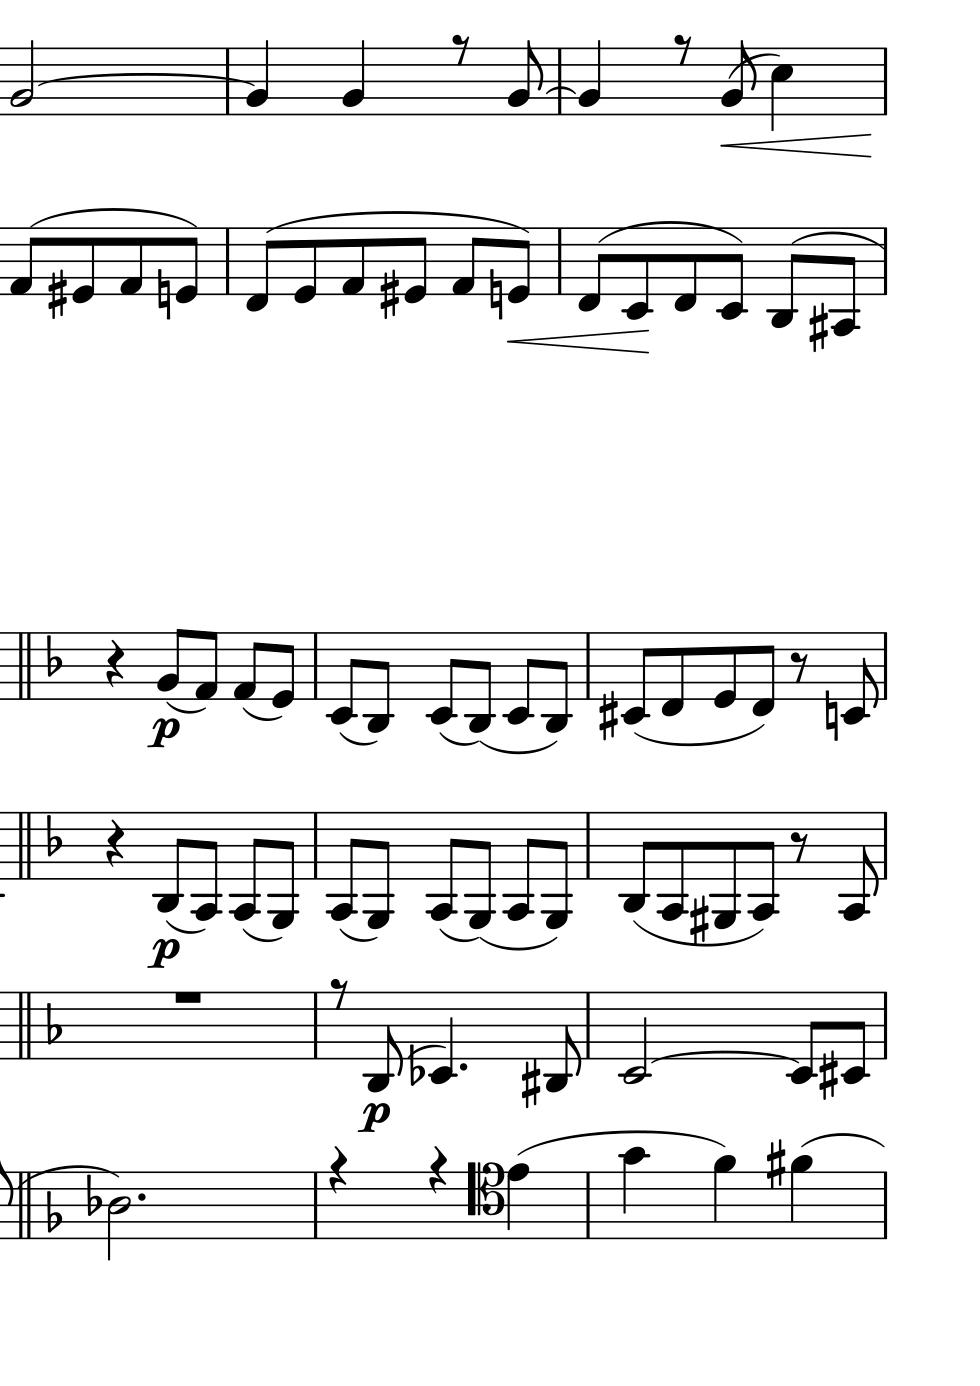2_-2: (620, 989, 649, 1086)
2_2: (8, 38, 36, 116)
2_4: (106, 1171, 132, 1262)
4_-2: (427, 989, 455, 1086)
4_2: (577, 38, 603, 118), (245, 38, 272, 117), (342, 38, 367, 117)
4_5: (768, 45, 795, 131)
4_8: (506, 1161, 529, 1240)
4_9: (788, 1152, 812, 1241), (711, 1153, 735, 1240)
8_-1: (242, 226, 278, 314), (575, 227, 607, 314), (659, 631, 686, 719), (751, 631, 777, 720), (671, 226, 698, 313)
8_-2: (839, 630, 879, 726), (785, 992, 819, 1091), (326, 630, 361, 726), (426, 631, 461, 725), (620, 631, 655, 725), (503, 631, 536, 725), (716, 226, 747, 322), (839, 992, 869, 1085), (622, 227, 650, 321)
8_-3: (364, 990, 404, 1093), (544, 992, 582, 1094), (618, 811, 653, 916), (153, 811, 186, 915), (767, 226, 800, 329), (364, 631, 391, 734), (543, 630, 570, 736), (466, 630, 492, 734)
8_-4: (837, 809, 878, 923), (425, 809, 460, 922), (326, 809, 360, 922), (503, 809, 537, 922), (231, 810, 263, 923), (655, 810, 687, 922), (190, 809, 221, 922), (749, 809, 778, 923), (830, 225, 857, 338)
8_-5: (268, 810, 300, 930), (463, 811, 495, 931), (363, 811, 395, 930), (543, 811, 574, 930), (710, 811, 740, 930)
8_0: (174, 226, 202, 306), (270, 630, 297, 712), (70, 226, 97, 306), (292, 227, 318, 306), (711, 631, 737, 710), (403, 227, 428, 308), (507, 227, 532, 306)
8_1: (449, 227, 482, 298), (231, 630, 263, 703), (8, 226, 40, 297), (116, 227, 143, 297), (193, 630, 218, 704), (339, 226, 365, 297)
8_10: (620, 1145, 647, 1242)
8_2: (506, 39, 544, 116), (720, 38, 756, 115), (154, 627, 186, 701)
Crescendo_hairpin: (723, 131, 869, 162), (505, 330, 649, 354)
Double_barline: (13, 811, 36, 879), (14, 632, 35, 699), (14, 992, 34, 1059)
Flat: (43, 1001, 63, 1049), (43, 633, 63, 679), (43, 813, 63, 859), (43, 1190, 62, 1234), (84, 1174, 102, 1218), (407, 1043, 424, 1087)
Natural: (156, 267, 171, 321), (488, 268, 503, 321), (824, 691, 839, 743)
Rests1: (171, 988, 204, 1005)
Rests4: (104, 638, 126, 690), (104, 818, 125, 870), (427, 1144, 448, 1196), (328, 1144, 348, 1194)
Rests8: (789, 650, 810, 685), (449, 33, 470, 67), (671, 33, 693, 67), (789, 829, 810, 863), (329, 977, 349, 1010)
Sharp: (763, 1138, 786, 1190), (378, 268, 400, 321), (816, 1049, 838, 1101), (519, 1059, 541, 1110), (46, 269, 67, 320), (807, 302, 828, 353), (597, 691, 618, 742), (688, 895, 708, 947)
Single_barline: (13, 1171, 34, 1239), (218, 47, 237, 115), (307, 633, 325, 699), (307, 1172, 325, 1238), (218, 228, 235, 295), (307, 812, 323, 879), (877, 49, 893, 115), (308, 993, 323, 1057), (878, 992, 893, 1060), (877, 812, 892, 879), (552, 228, 566, 294), (877, 229, 892, 295), (877, 633, 892, 699), (580, 813, 595, 879), (580, 993, 595, 1058), (580, 633, 595, 698), (878, 1171, 892, 1239), (581, 1173, 595, 1236)
Slur: (266, 210, 530, 234), (518, 1131, 725, 1158), (599, 220, 741, 246), (38, 71, 255, 88), (635, 720, 766, 748), (630, 920, 765, 947), (33, 208, 199, 228), (650, 1048, 798, 1064), (790, 230, 885, 249), (25, 1164, 116, 1182), (798, 1131, 885, 1150), (479, 740, 558, 755), (479, 936, 558, 951), (242, 706, 282, 721), (339, 730, 377, 745), (439, 730, 476, 745), (439, 926, 476, 942), (405, 1043, 447, 1057), (167, 918, 205, 933), (243, 926, 281, 941), (340, 926, 377, 941), (165, 701, 206, 713), (546, 85, 576, 95)
Tensor_Cclef: (465, 1160, 504, 1240)
dot: (457, 1060, 473, 1076), (134, 1190, 148, 1204)
p: (145, 716, 181, 752), (357, 1100, 392, 1136), (147, 936, 182, 970)
